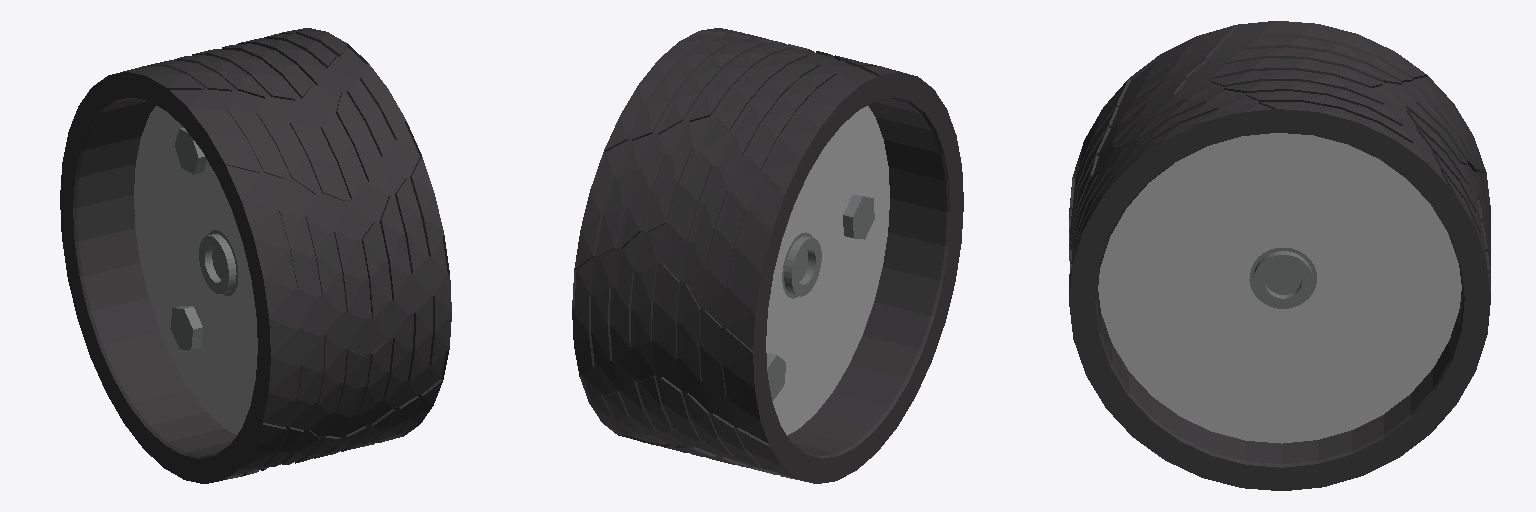
File: roue.obj
3 renders of one model, left to right at view 1: azimuth 30°, elevation 25°; view 2: azimuth 150°, elevation 25°; view 3: azimuth 270°, elevation 25°, orthographic.
Visible parts, largest first — view 1: Circle.003_Circle.001, Circle.002, Circle.004_Circle.003, Circle.006_Circle.003; view 2: Circle.003_Circle.001, Circle.002, Circle.005_Circle.003, Circle.004_Circle.003; view 3: Circle.003_Circle.001, Circle.049_Circle.002.
Part boxes in pixels (left/top/right/bottom): Circle.003_Circle.001: left=60, top=28, right=451, bottom=483; Circle.002: left=199, top=230, right=237, bottom=295; Circle.004_Circle.003: left=170, top=306, right=202, bottom=349; Circle.006_Circle.003: left=175, top=128, right=206, bottom=174; Circle.003_Circle.001: left=572, top=28, right=963, bottom=483; Circle.002: left=782, top=232, right=821, bottom=298; Circle.005_Circle.003: left=843, top=195, right=874, bottom=239; Circle.004_Circle.003: left=767, top=353, right=785, bottom=400; Circle.003_Circle.001: left=1069, top=21, right=1490, bottom=490; Circle.049_Circle.002: left=1249, top=248, right=1316, bottom=308.
Size of the model in its own units: 2.41 by 4.88 by 4.88.